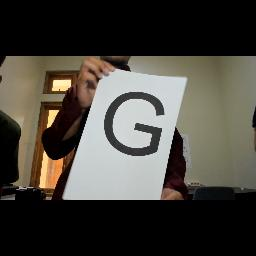g: (102, 90, 170, 160)
